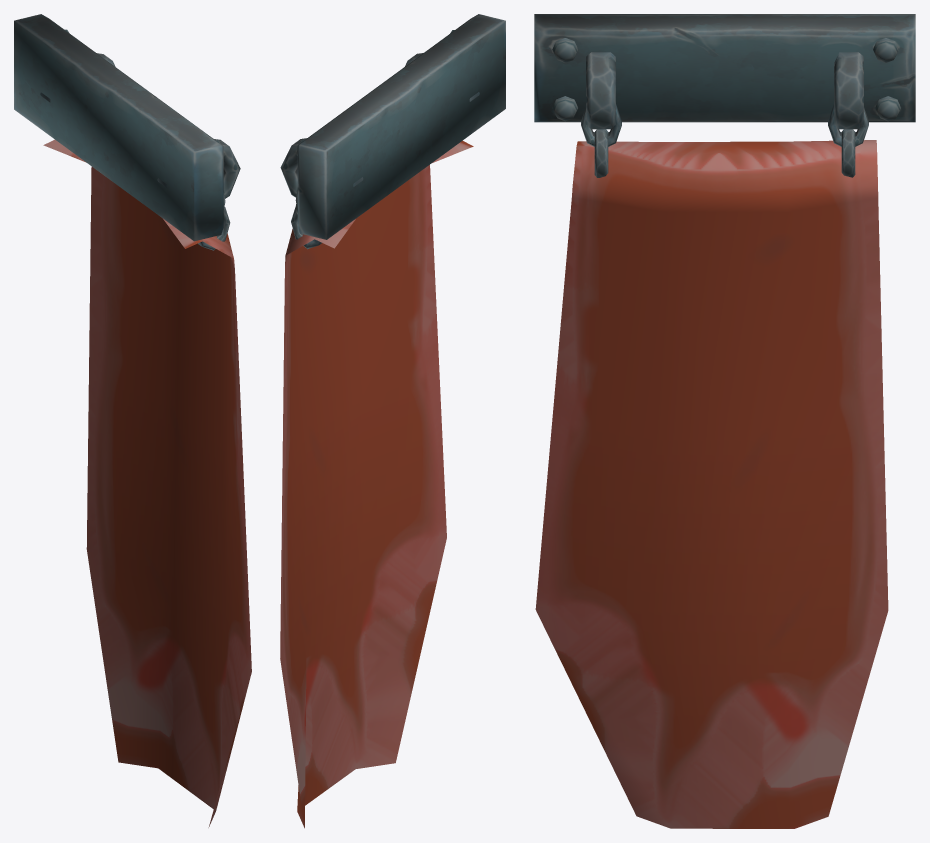
File: Banner_A.fbx
3 renders of one model, left to right at view 1: azimuth 30°, elevation 25°; view 2: azimuth 150°, elevation 25°; view 3: azimuth 270°, elevation 25°, orthographic. The views are drawn at different scales.
Visible parts, largest first — view 1: Metal_LP.010; view 2: Metal_LP.010; view 3: Metal_LP.010.
Part boxes in pixels (<box>): Metal_LP.010: <box>14,14,251,827</box>; Metal_LP.010: <box>280,14,505,828</box>; Metal_LP.010: <box>534,14,915,828</box>.
Size of the model in its own units: 208 by 1592 by 715.
